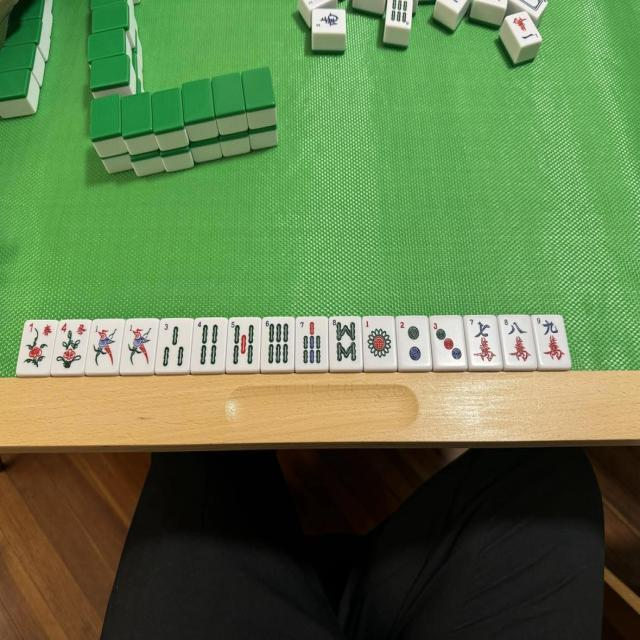bs1: (22, 322, 52, 374)
bs4: (56, 321, 89, 374)
sb1: (88, 320, 122, 373), (124, 320, 156, 372)
sb3: (158, 320, 191, 373)
sb4: (194, 319, 226, 372)
sb5: (229, 319, 261, 370)
sb6: (264, 320, 294, 370)
sb7: (297, 318, 328, 368)
sb8: (331, 317, 362, 365)
sc7: (470, 318, 498, 364)
sc8: (501, 318, 532, 366)
sc9: (536, 318, 564, 366)
sd1: (366, 320, 396, 364)
sd2: (400, 318, 429, 364)
sd3: (434, 319, 464, 364)
